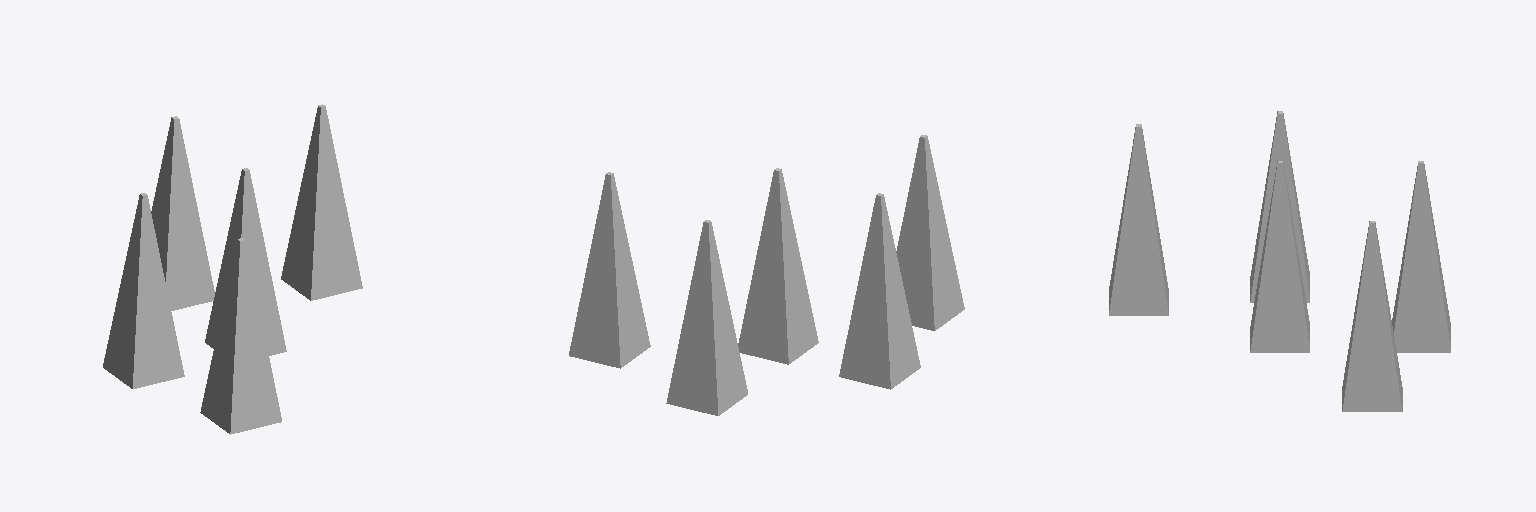
File: Grass_4.obj
3 renders of one model, left to right at view 1: azimuth 30°, elevation 25°; view 2: azimuth 150°, elevation 25°; view 3: azimuth 270°, elevation 25°, orthographic.
Visible parts, largest first — view 1: Cube.005_Cube.014, Cube.002_Cube.013, Cube.004_Cube.002, Cube.000_Cube.005, Cube.001_Cube.006; view 2: Cube.005_Cube.014, Cube.000_Cube.005, Cube.002_Cube.013, Cube.001_Cube.006, Cube.004_Cube.002; view 3: Cube.001_Cube.006, Cube.005_Cube.014, Cube.004_Cube.002, Cube.000_Cube.005, Cube.002_Cube.013.
Part boxes in pixels (left/top/right/bottom): Cube.005_Cube.014: left=281, top=104, right=362, bottom=300; Cube.002_Cube.013: left=103, top=193, right=184, bottom=388; Cube.004_Cube.002: left=200, top=238, right=281, bottom=434; Cube.000_Cube.005: left=151, top=116, right=214, bottom=310; Cube.001_Cube.006: left=205, top=168, right=286, bottom=355; Cube.005_Cube.014: left=569, top=172, right=650, bottom=368; Cube.000_Cube.005: left=666, top=220, right=747, bottom=415; Cube.002_Cube.013: left=839, top=193, right=920, bottom=389; Cube.001_Cube.006: left=738, top=168, right=818, bottom=364; Cube.004_Cube.002: left=896, top=135, right=964, bottom=330; Cube.001_Cube.006: left=1250, top=161, right=1309, bottom=352; Cube.005_Cube.014: left=1342, top=221, right=1402, bottom=411; Cube.004_Cube.002: left=1109, top=124, right=1168, bottom=315; Cube.000_Cube.005: left=1392, top=161, right=1450, bottom=352; Cube.002_Cube.013: left=1250, top=111, right=1309, bottom=302.
Bounding box in the file's own units: 0.5342 × 0.3284 × 0.5733.